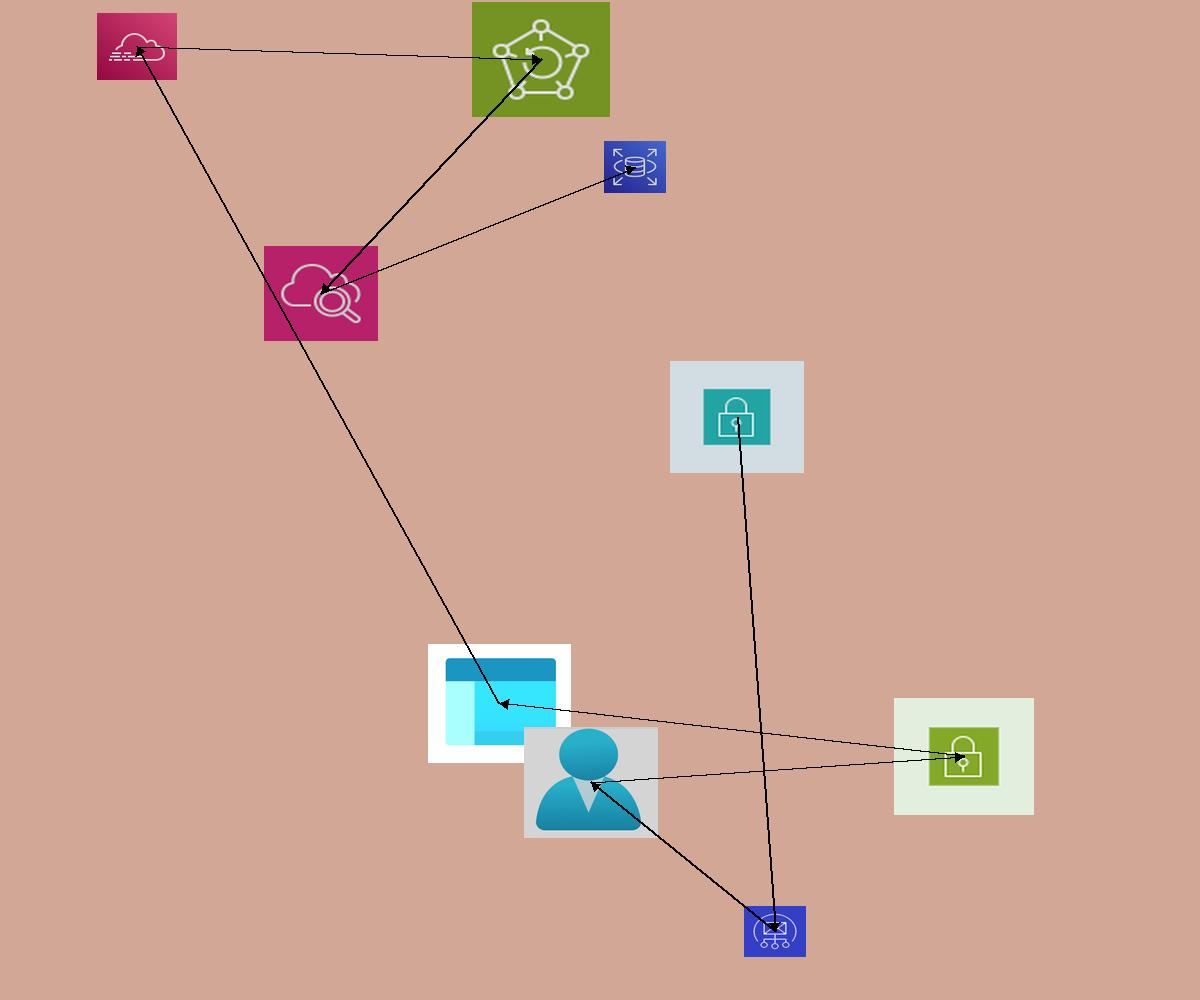AWS-Backup: (472, 2, 610, 117)
AWS-CloudTrail: (97, 13, 177, 80)
AWS-CloudWatch: (264, 246, 378, 341)
AWS-Private-subnet: (670, 361, 804, 473)
AWS-Public-subnet: (894, 698, 1034, 815)
AWS-RDS: (604, 141, 666, 193)
AWS-Simple-Email-Service: (744, 906, 806, 957)
Azure_management-portal: (428, 644, 571, 763)
Azure_users: (524, 727, 658, 838)
